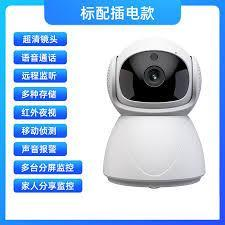maru: (106, 41, 202, 117)
